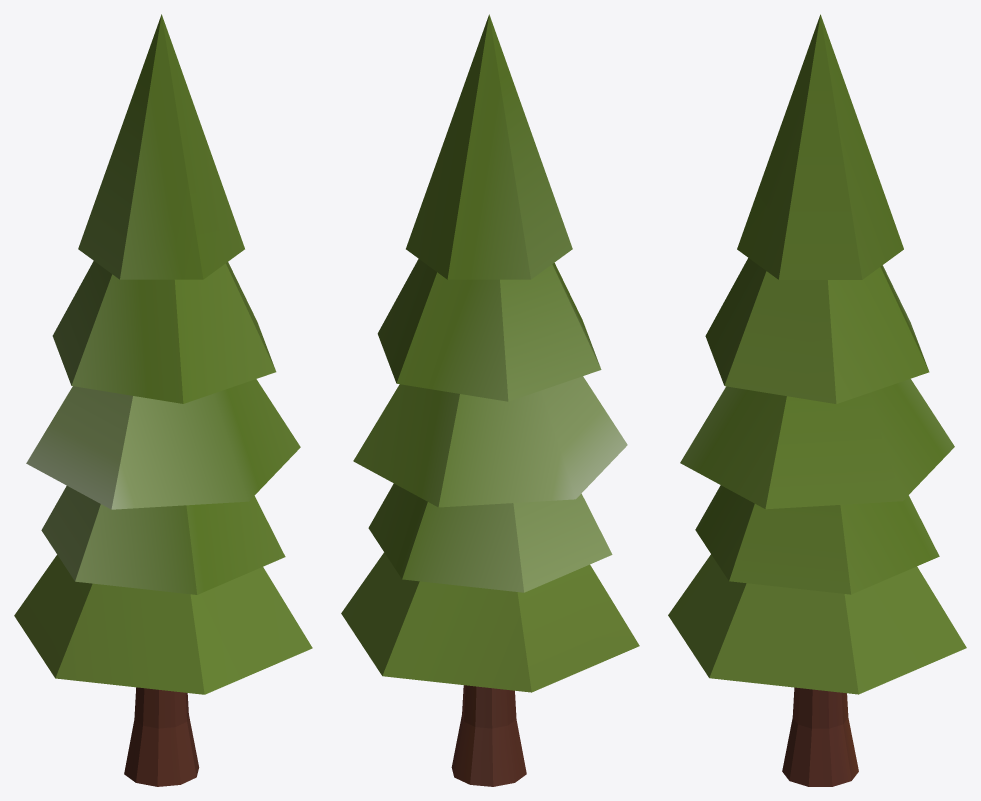
File: sapin-8.glb
3 renders of one model, left to right at view 1: azimuth 30°, elevation 25°; view 2: azimuth 150°, elevation 25°; view 3: azimuth 270°, elevation 25°, orthographic.
Visible parts, largest first — view 1: Pine_Tree_02; view 2: Pine_Tree_02; view 3: Pine_Tree_02.
Boxes of the visible parts, <box> form: Pine_Tree_02: <box>14,14,312,786</box>; Pine_Tree_02: <box>341,14,639,786</box>; Pine_Tree_02: <box>668,14,966,786</box>.
Bounding box in the file's own units: 2.7 × 7.57 × 2.71.
Materials: 1 (1 with a texture image).
